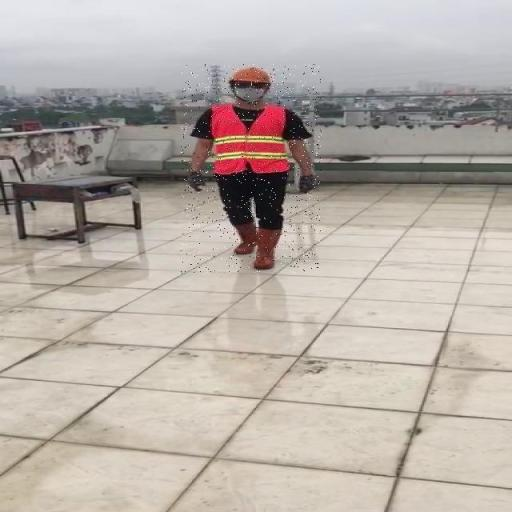Boots: (252, 226, 282, 269), (233, 222, 253, 258)
Helmet: (228, 66, 274, 84)
Person: (181, 64, 321, 274)
